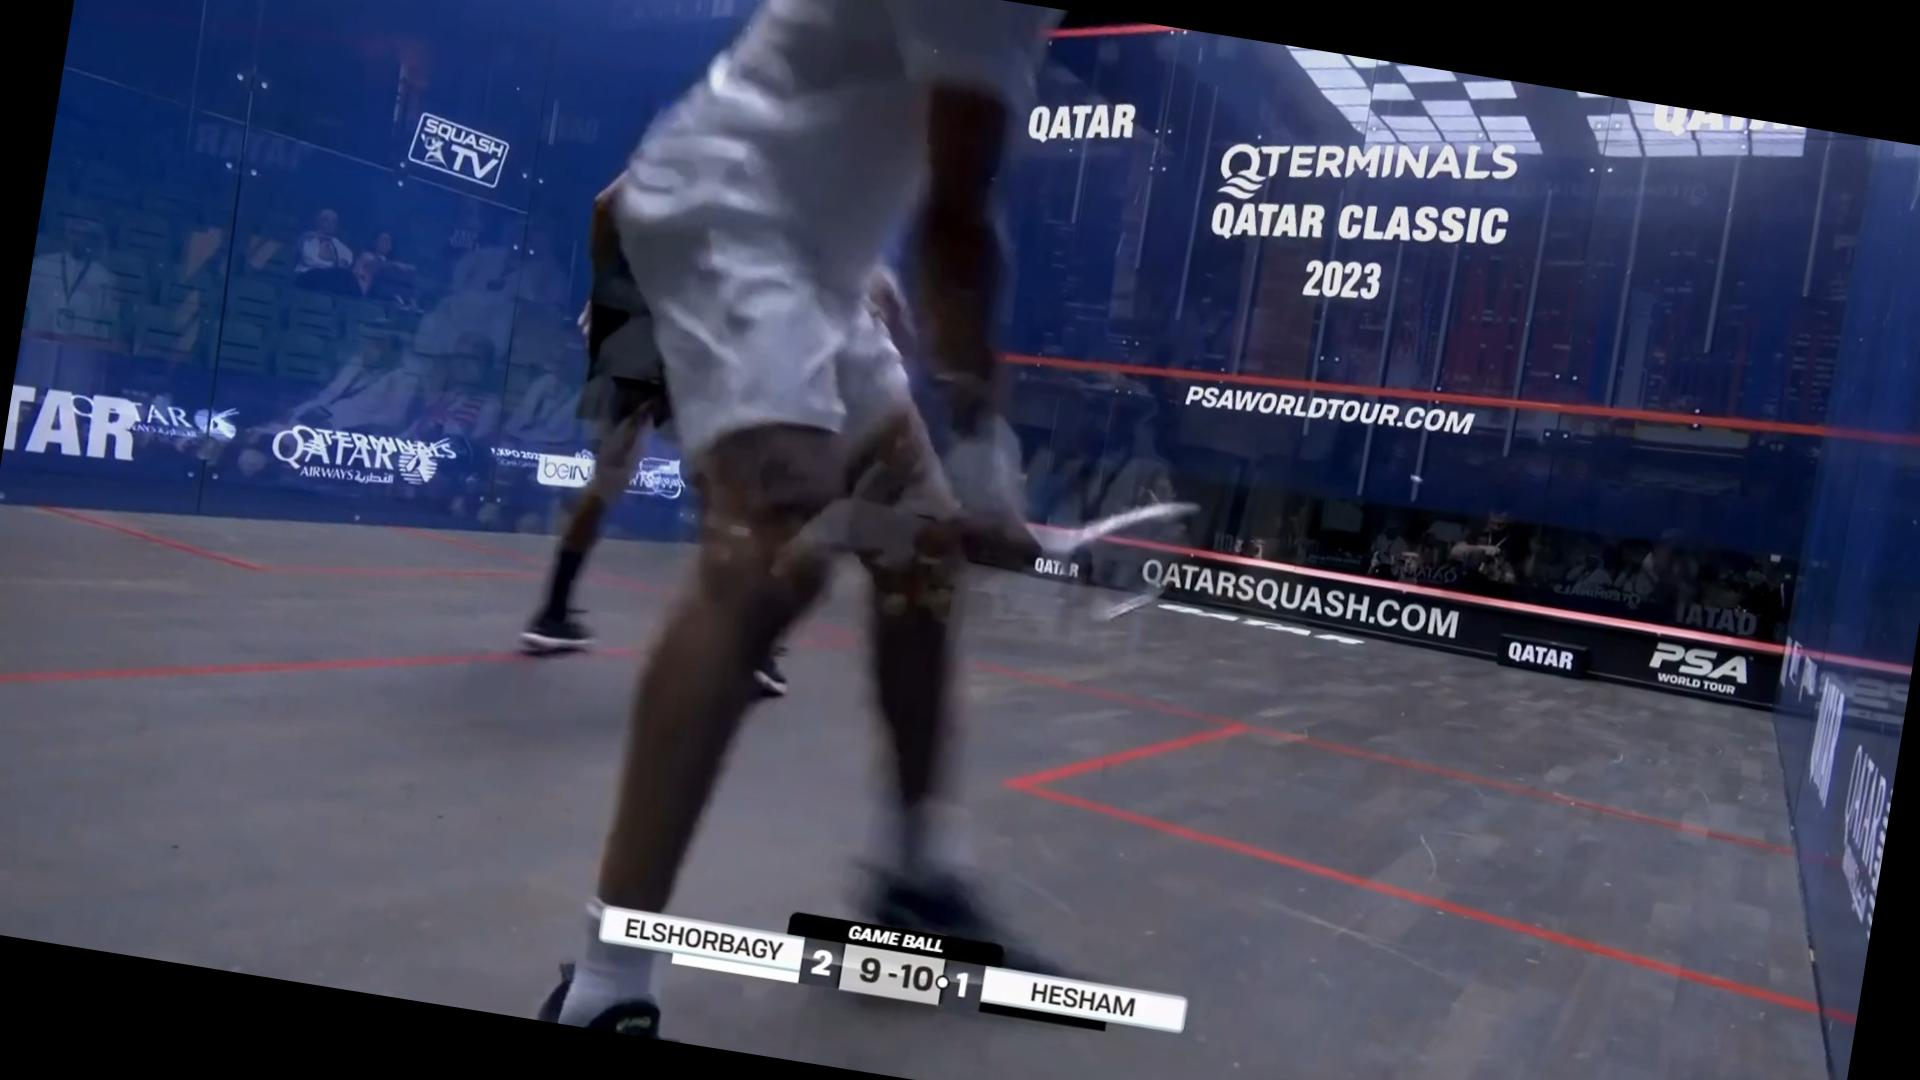Squash-Ball: (1393, 456, 1448, 502)
